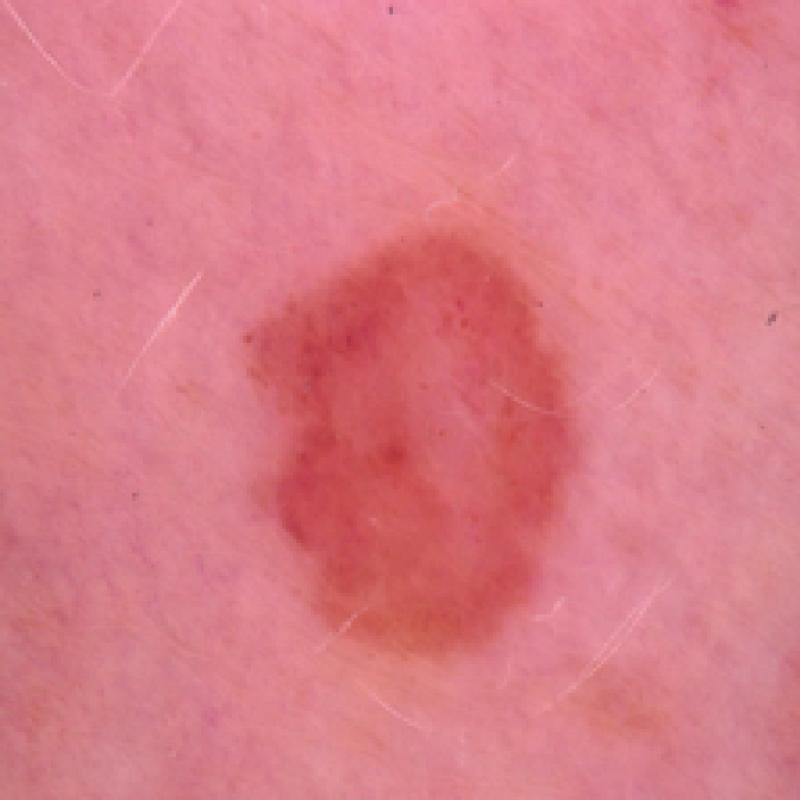benign: (208, 211, 659, 699)
